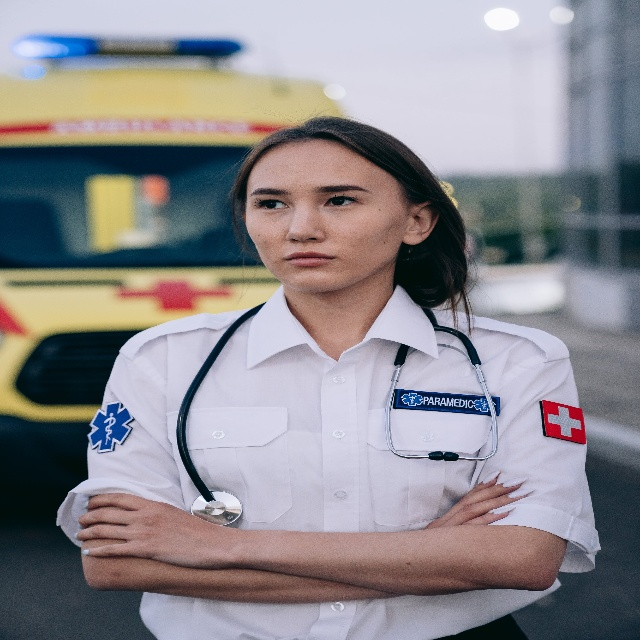Sin_guantes: (73, 497, 237, 560), (427, 461, 535, 525)
